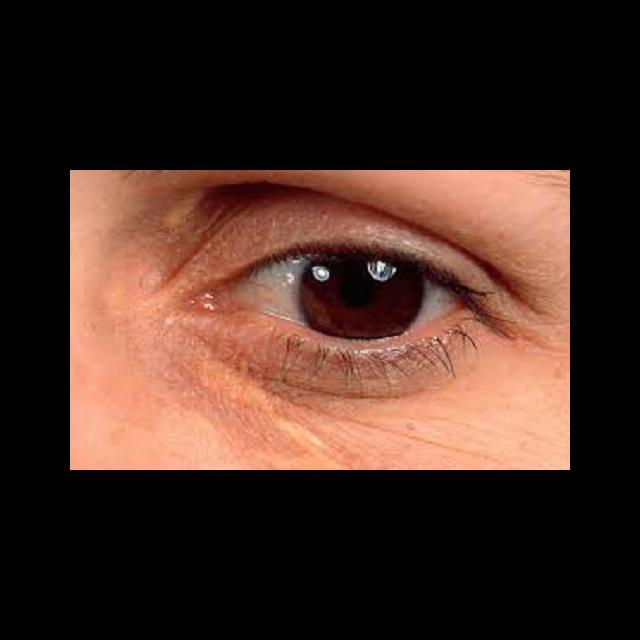eye: (243, 250, 459, 338)
iris: (298, 253, 425, 338)
